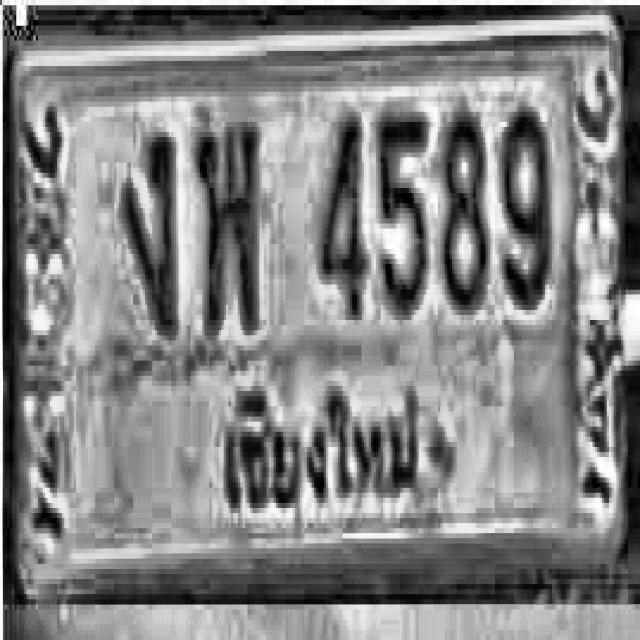license-plate: (10, 0, 637, 595)
